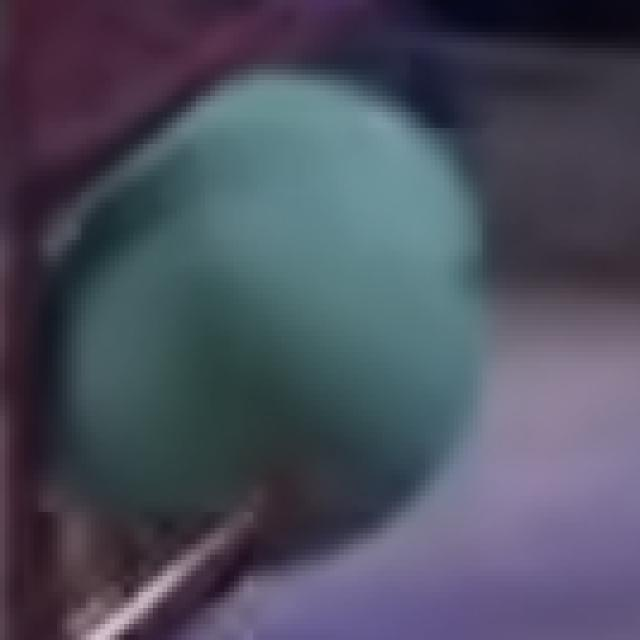Algae: (41, 72, 485, 565)
Reef: (40, 0, 300, 214), (70, 490, 274, 640)
